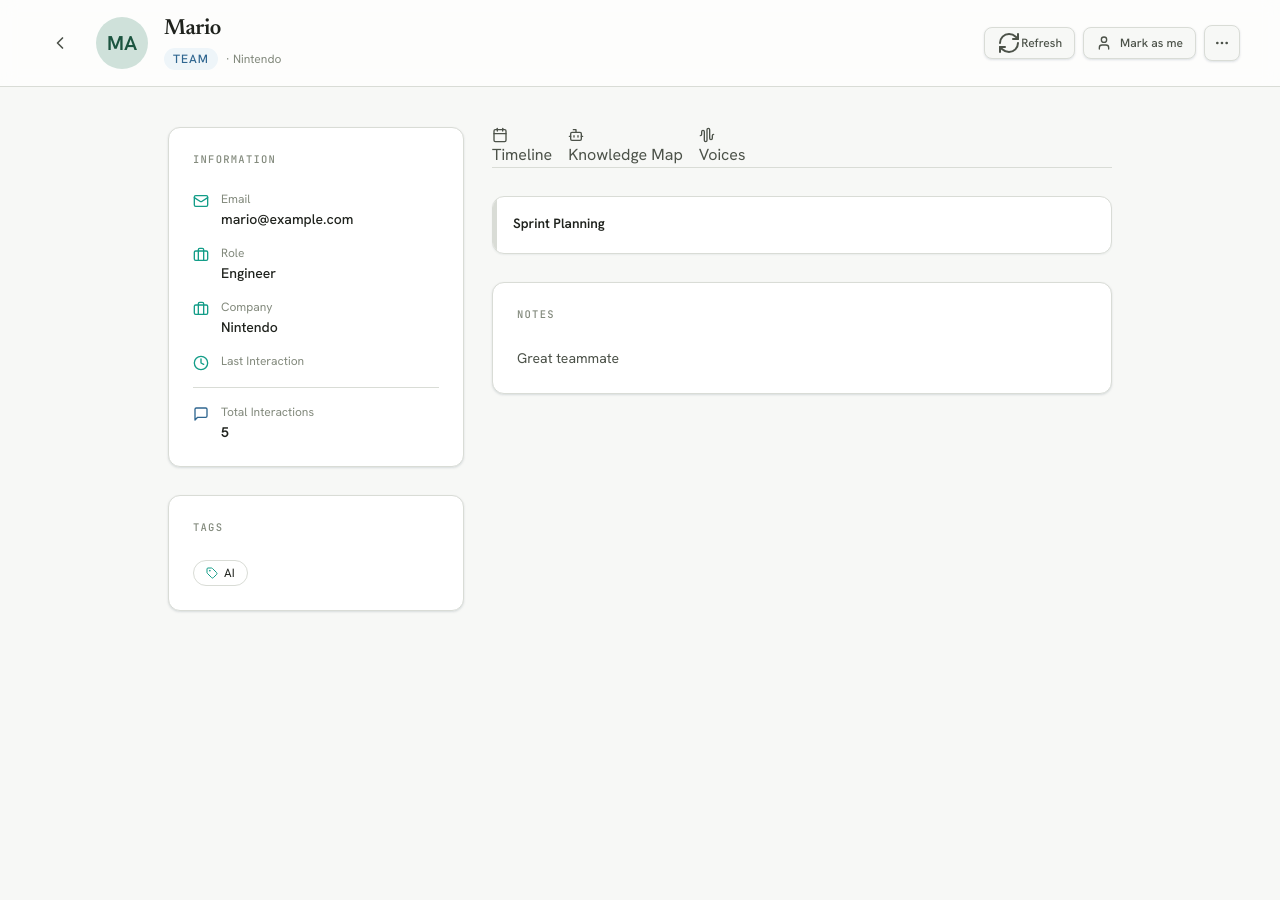
Test: PersonDetail Page › should enter edit mode and show form fields
Expected: the heading "Mario" is shown, [164,16,221,44]
Press the mouse on the button titled "Contact options": (1222, 43) [1204,25,1240,61]
Click the button titled "Contact options": (1222, 43) [1204,25,1240,61]
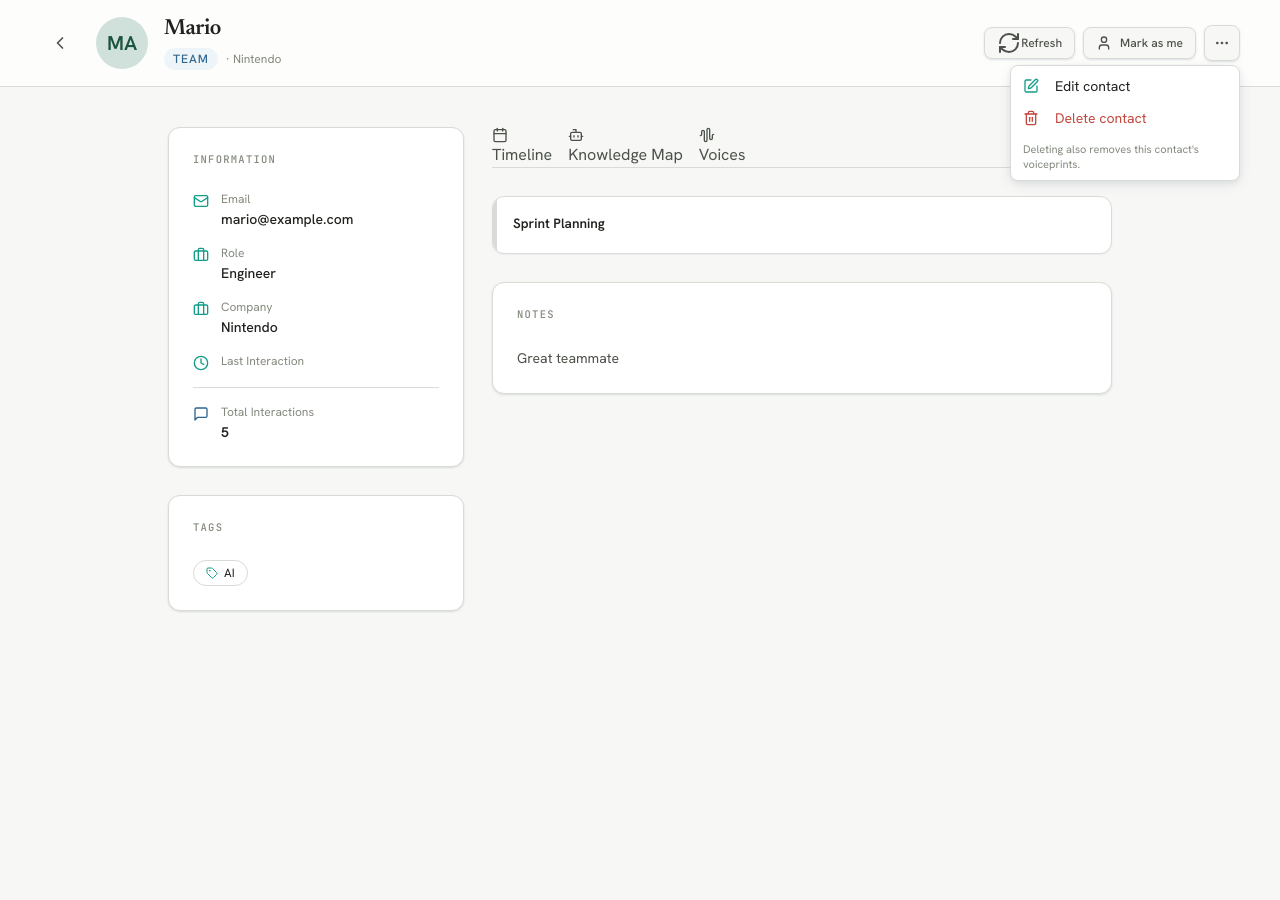
Click the menu item "Edit contact": (1077, 86) [1023,77,1130,95]
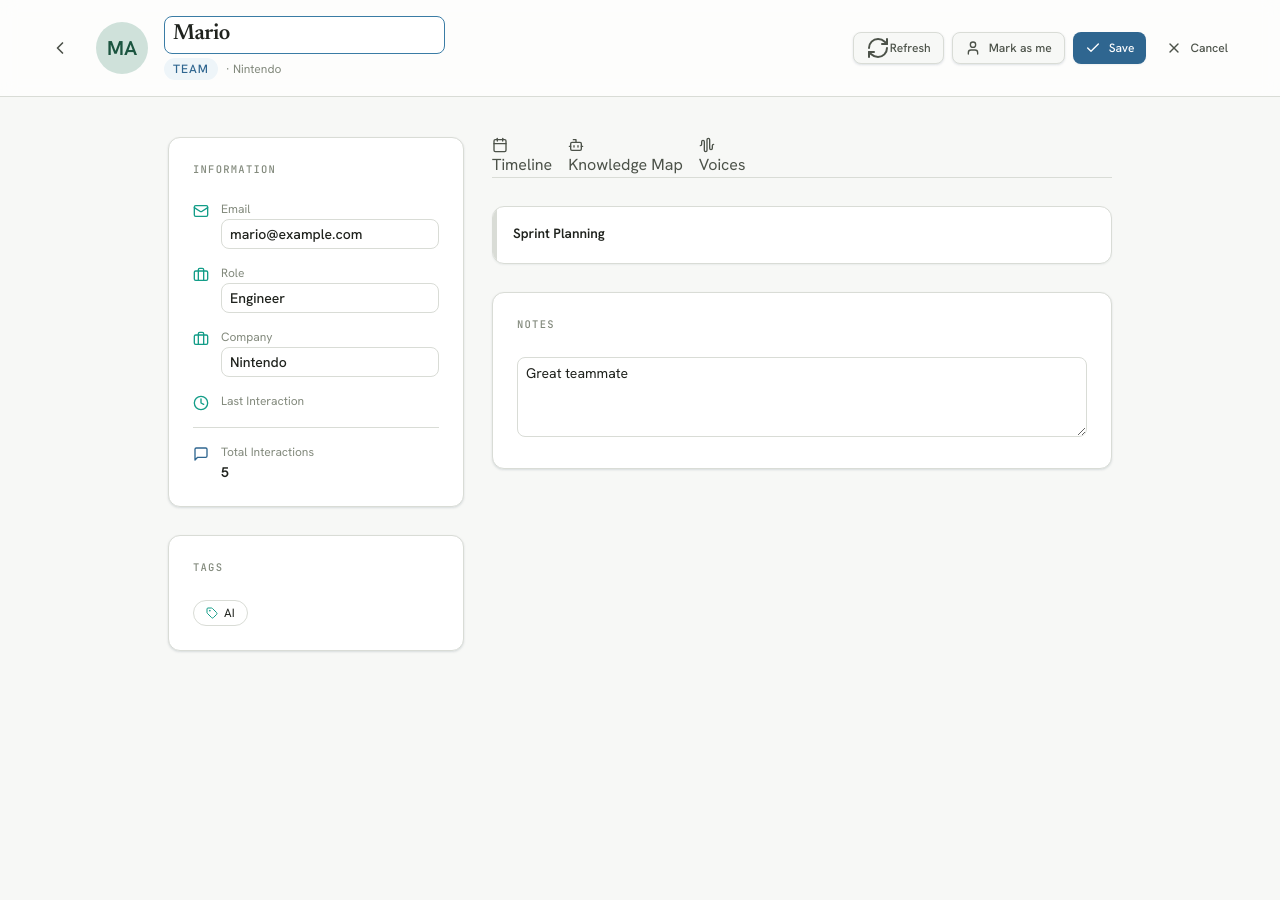
Result: the button "Save" is shown at [1073,32,1146,64]
Result: the button "Cancel" is shown at [1154,32,1240,64]
